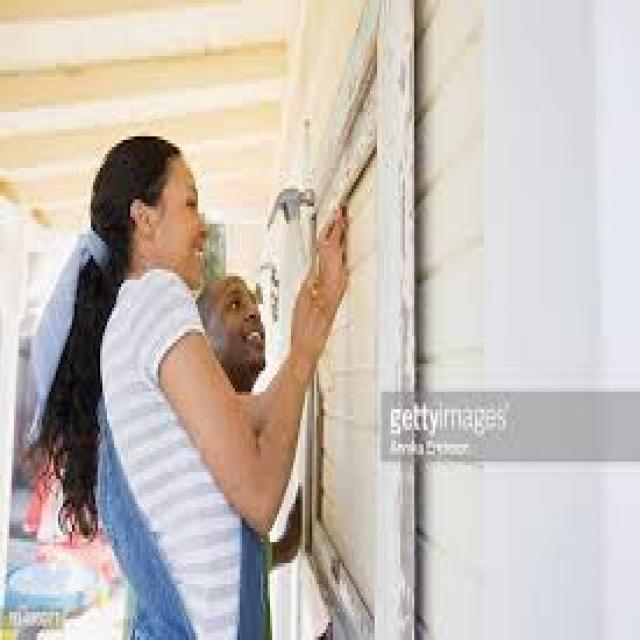hammer: (258, 168, 324, 308)
